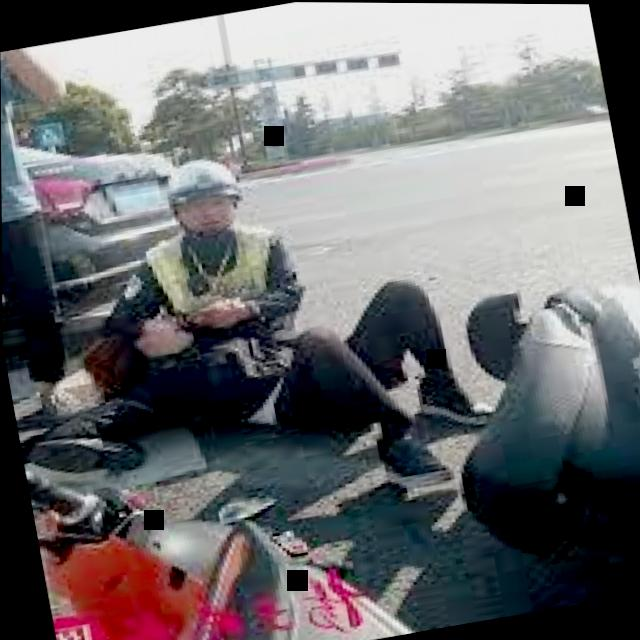Fall-Detected: (27, 231, 533, 526)
